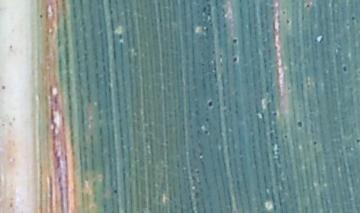tarspot: (341, 64, 349, 74), (349, 14, 357, 23), (230, 37, 238, 46), (207, 99, 214, 108), (117, 32, 124, 41), (7, 200, 14, 209), (296, 119, 302, 129), (38, 12, 45, 20), (304, 2, 312, 9), (231, 56, 238, 64), (210, 48, 217, 56), (304, 82, 311, 90), (201, 5, 207, 14), (285, 16, 290, 26), (109, 7, 114, 17), (8, 42, 14, 50), (222, 20, 228, 28), (1, 84, 7, 91), (271, 110, 277, 117), (272, 44, 278, 51), (194, 169, 201, 175), (296, 103, 303, 109), (355, 137, 360, 145), (312, 138, 317, 146), (280, 9, 286, 15), (112, 188, 118, 194), (203, 129, 209, 135), (204, 116, 210, 122), (197, 151, 203, 157), (283, 133, 288, 140), (237, 1, 243, 5)
